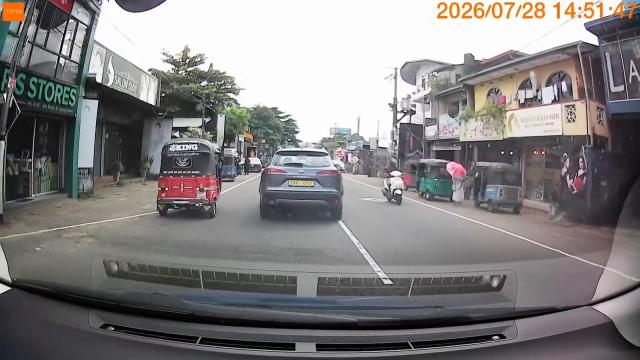number plate: (286, 179, 316, 190)
